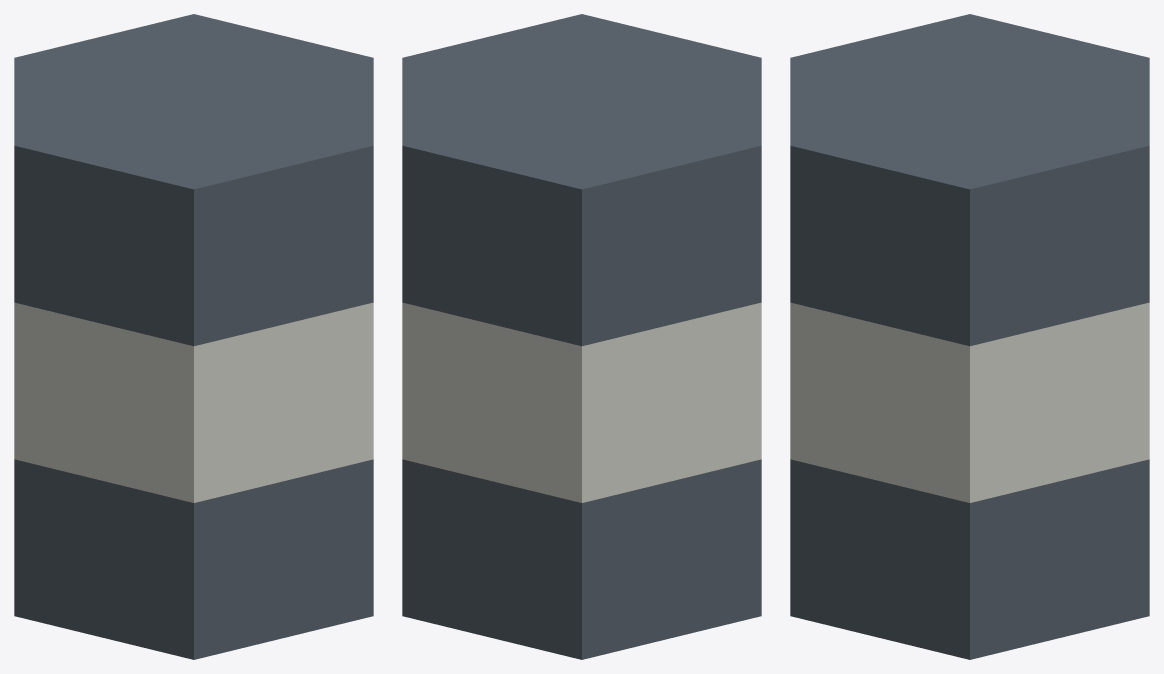
File: barrel.glb
3 views of the same model, side by side, from view 1: azimuth 30°, elevation 25°; view 2: azimuth 150°, elevation 25°; view 3: azimuth 270°, elevation 25° (orthographic).
Visible parts, largest first — view 1: barrel; view 2: barrel; view 3: barrel.
Part boxes in pixels (x1,y1,x2,y2): barrel: (14, 14, 373, 659); barrel: (402, 14, 761, 659); barrel: (790, 14, 1149, 659).
Bounding box in the file's own units: 0.76 × 0.95 × 0.6582.
